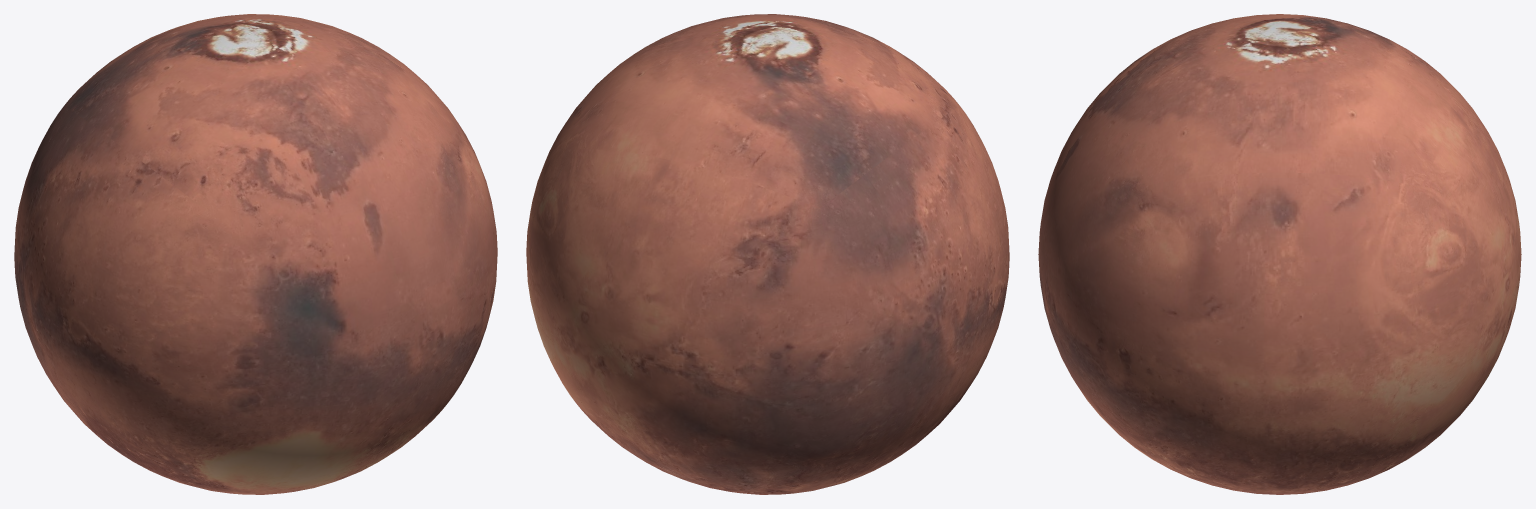
File: mars.glb
3 renders of one model, left to right at view 1: azimuth 30°, elevation 25°; view 2: azimuth 150°, elevation 25°; view 3: azimuth 270°, elevation 25°, orthographic.
Parts seen in each view (by area): view 1: Cube.008; view 2: Cube.008; view 3: Cube.008.
Part boxes in pixels (x1=…): Cube.008: x1=14, y1=14, x2=497, y2=494; Cube.008: x1=526, y1=14, x2=1009, y2=494; Cube.008: x1=1038, y1=14, x2=1521, y2=494.
Size of the model in its own units: 1000 by 994 by 1000.
1 material, 1 textured.
